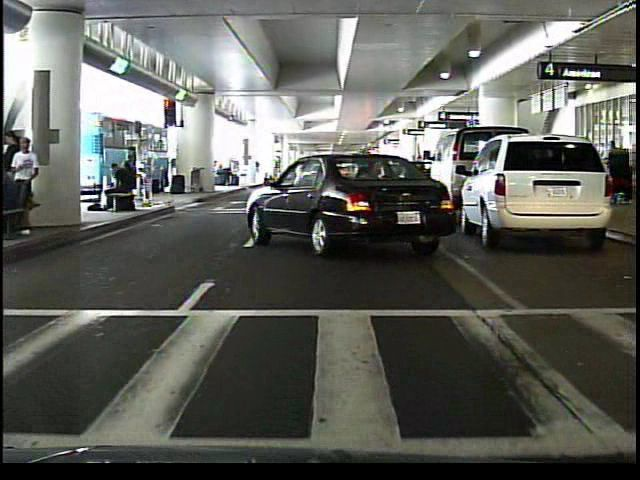person: (99, 161, 135, 216)
